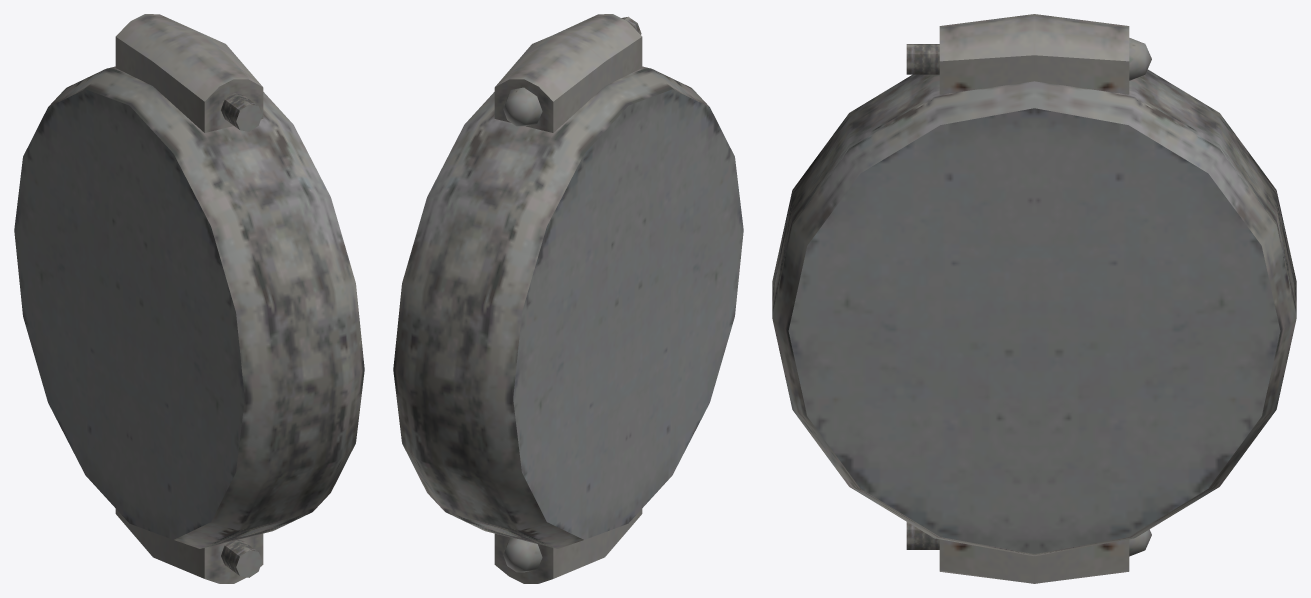
File: com_pipe_4_coupling_ceramic_LOD0.obj
The picture shows the model from 3 angles, left to right: view 1: azimuth 30°, elevation 25°; view 2: azimuth 150°, elevation 25°; view 3: azimuth 270°, elevation 25°; orthographic projection. The views are drawn at different scales.
Parts seen in each view (by area): view 1: mtl_pipes_ceramic; view 2: mtl_pipes_ceramic; view 3: mtl_pipes_ceramic.
Part boxes in pixels (x1,y1,x2,y2): mtl_pipes_ceramic: (14, 14, 364, 583); mtl_pipes_ceramic: (393, 14, 743, 583); mtl_pipes_ceramic: (772, 14, 1296, 583).
Size of the model in its own units: 6.44 by 26.91 by 22.85.
